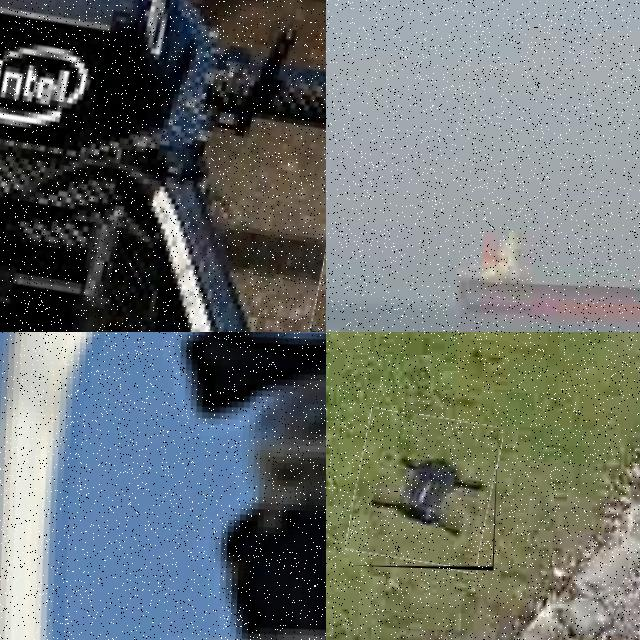drone: (0, 0, 326, 332), (349, 411, 498, 570)
